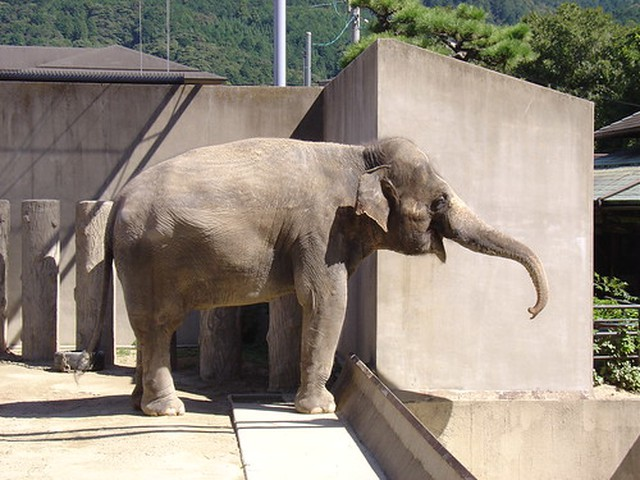Elephant: (106, 136, 558, 416)
